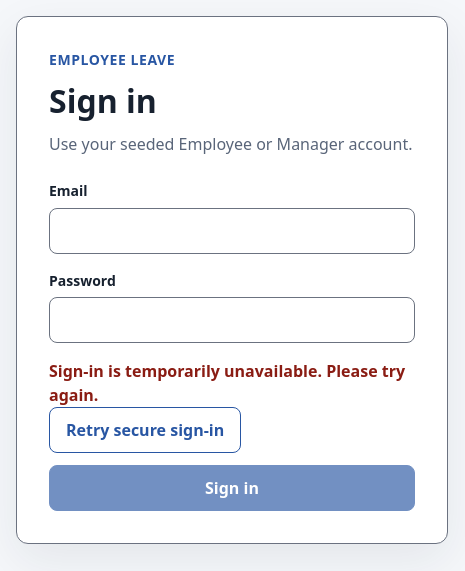
Test: SignInForm › lets the user retry when the initial CSRF request fails
Expected: the message shows "temporarily unavailable", [49, 360, 405, 406]
Click the button "Retry secure sign-in" at (145, 430), box [49, 407, 241, 453]
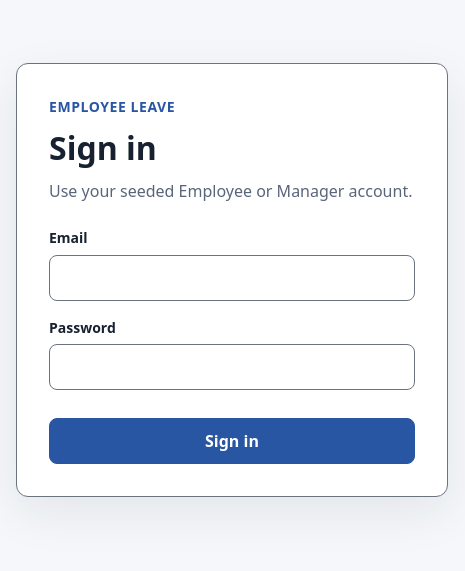
Expected: the button "Sign in" is enabled, [49, 418, 415, 464]
